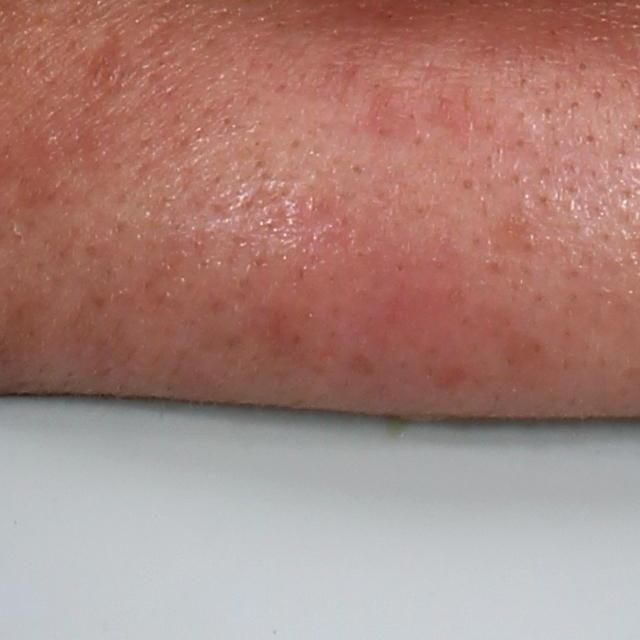comedo: (452, 172, 482, 194), (574, 57, 594, 75), (589, 86, 607, 103)
